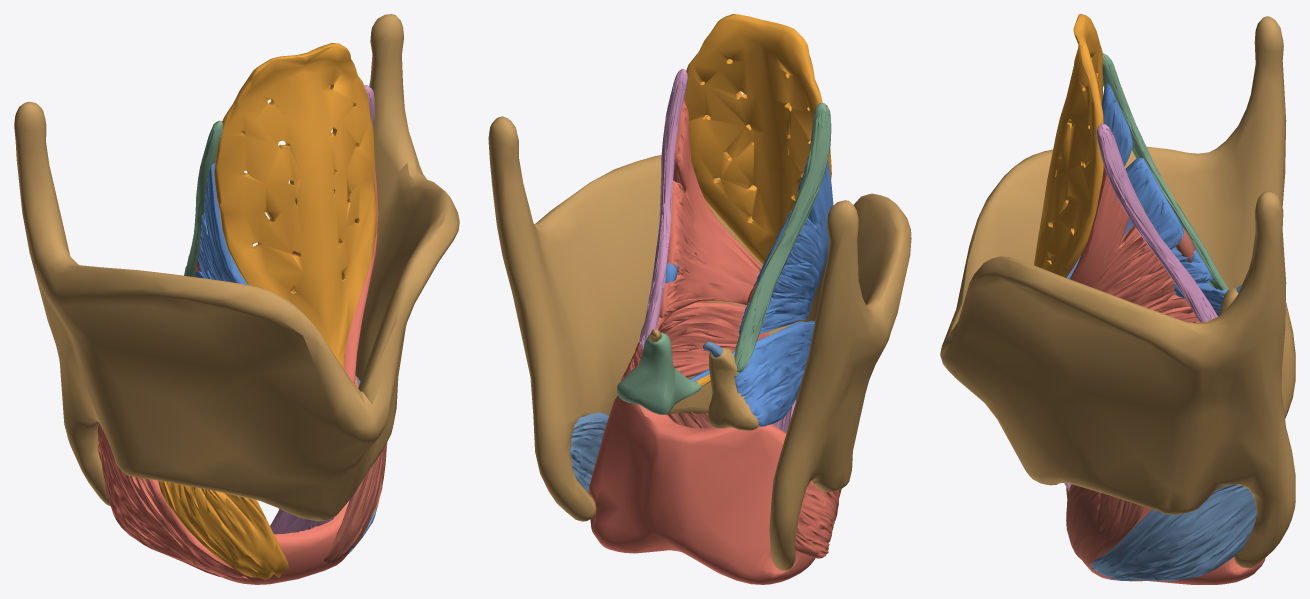
File: larynx.glb
The picture shows the model from 3 angles, left to right: view 1: azimuth 30°, elevation 25°; view 2: azimuth 150°, elevation 25°; view 3: azimuth 270°, elevation 25°; orthographic projection. The views are drawn at different scales.
Visible parts, largest first — view 1: Thyroid cartilage, Epiglottis, Straight part of right cricothyroid, Oblique part of right cricothyroid, Cricoid cartilage, Right thyro-arytenoid, Straight part of left cricothyroid, Right aryepiglotticus, Left thyro-arytenoid, Median cricothyroid ligament; view 2: Thyroid cartilage, Cricoid cartilage, Epiglottis, Left thyro-arytenoid (×2), Right thyro-arytenoid (×2), Right aryepiglotticus, Left aryepiglotticus, Left arytenoid cartilage, Right arytenoid cartilage, Oblique part of right cricothyroid, Oblique part of left cricothyroid, Straight part of left cricothyroid; view 3: Thyroid cartilage, Epiglottis, Oblique part of left cricothyroid, Left thyro-arytenoid, Right thyro-arytenoid, Left aryepiglotticus, Straight part of left cricothyroid, Right aryepiglotticus, Cricoid cartilage.
Part boxes in pixels (left/top/right/bottom): Thyroid cartilage: left=14, top=14, right=459, bottom=521; Epiglottis: left=214, top=43, right=376, bottom=368; Straight part of right cricothyroid: left=158, top=480, right=288, bottom=579; Oblique part of right cricothyroid: left=97, top=423, right=247, bottom=578; Cricoid cartilage: left=218, top=500, right=349, bottom=584; Right thyro-arytenoid: left=195, top=159, right=248, bottom=285; Straight part of left cricothyroid: left=324, top=442, right=387, bottom=565; Right aryepiglotticus: left=184, top=120, right=222, bottom=276; Left thyro-arytenoid: left=292, top=164, right=378, bottom=383; Median cricothyroid ligament: left=270, top=509, right=333, bottom=534; Thyroid cartilage: left=488, top=116, right=911, bottom=570; Cricoid cartilage: left=588, top=395, right=815, bottom=584; Epiglottis: left=684, top=14, right=831, bottom=264; Left thyro-arytenoid (×2): left=621, top=99, right=769, bottom=380; Right thyro-arytenoid (×2): left=732, top=149, right=833, bottom=426; Right aryepiglotticus: left=734, top=103, right=831, bottom=372; Left aryepiglotticus: left=639, top=68, right=687, bottom=349; Left arytenoid cartilage: left=617, top=332, right=702, bottom=414; Right arytenoid cartilage: left=708, top=347, right=758, bottom=430; Oblique part of right cricothyroid: left=795, top=481, right=839, bottom=558; Oblique part of left cricothyroid: left=569, top=412, right=608, bottom=493; Straight part of left cricothyroid: left=667, top=411, right=710, bottom=428; Thyroid cartilage: left=940, top=16, right=1295, bottom=568; Epiglottis: left=1034, top=14, right=1103, bottom=277; Oblique part of left cricothyroid: left=1090, top=484, right=1256, bottom=581; Left thyro-arytenoid: left=1069, top=166, right=1199, bottom=322; Right thyro-arytenoid: left=1066, top=83, right=1212, bottom=283; Left aryepiglotticus: left=1096, top=123, right=1217, bottom=322; Straight part of left cricothyroid: left=1066, top=484, right=1143, bottom=566; Right aryepiglotticus: left=1102, top=53, right=1228, bottom=290; Cricoid cartilage: left=1066, top=507, right=1265, bottom=584.
Size of the model in its own units: 1.52 by 2 by 1.21.
